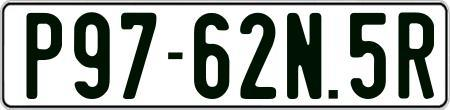2: (240, 13, 279, 103)
5: (348, 11, 390, 100)
6: (193, 12, 228, 104)
7: (119, 12, 156, 101)
9: (73, 9, 109, 100)
N: (286, 10, 321, 98)
P: (27, 12, 65, 103)
R: (398, 12, 434, 100)
